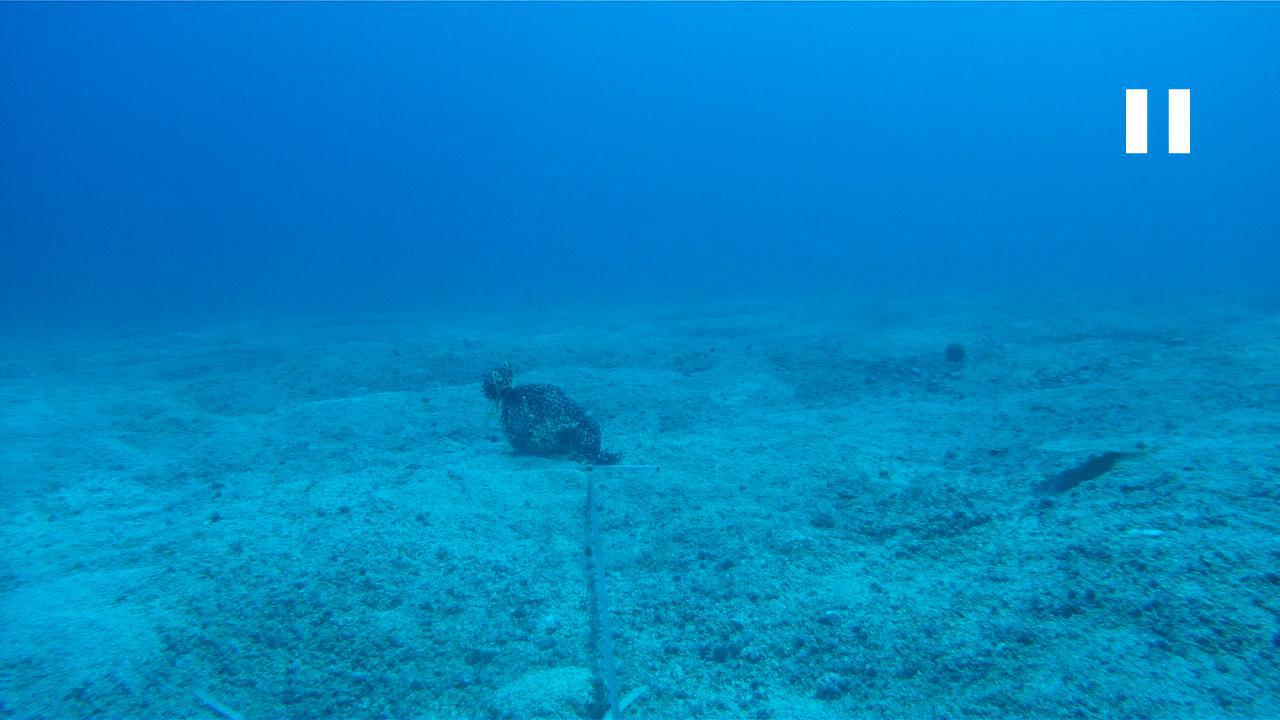bothus: (1027, 431, 1159, 459)
